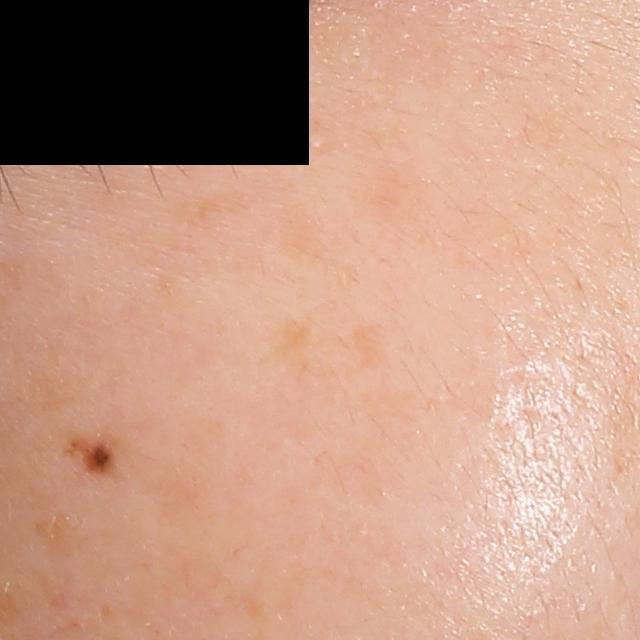melasma: (126, 191, 260, 268), (271, 204, 321, 267), (260, 316, 319, 367)
nevus: (76, 431, 114, 475)
